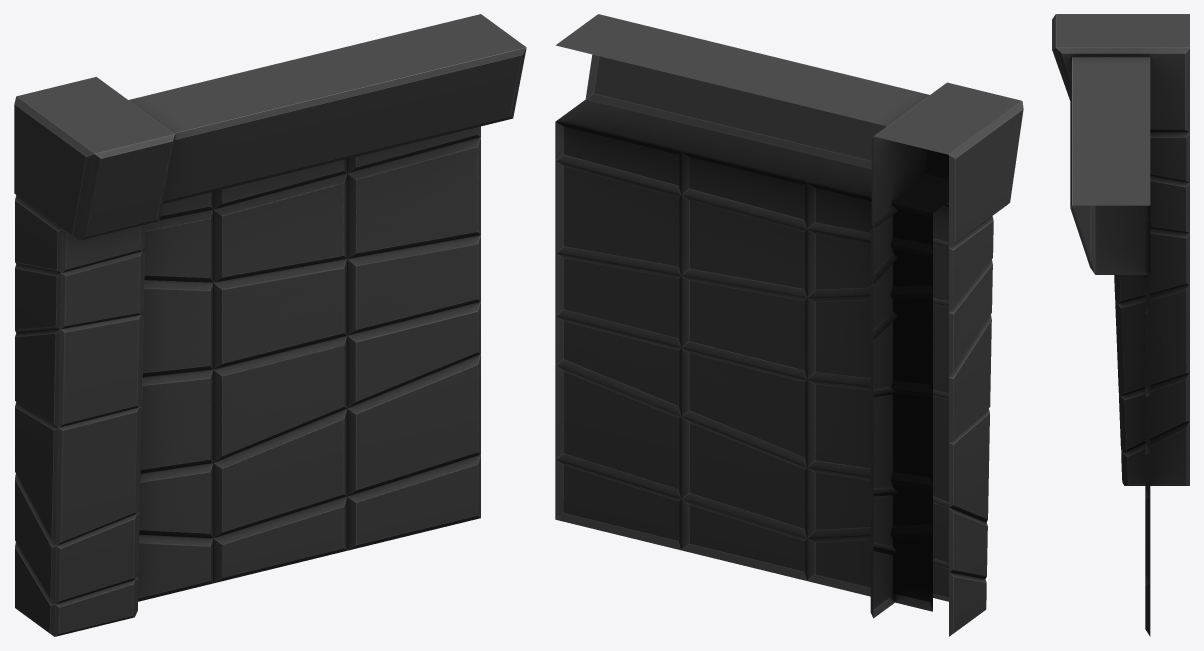
The model's file is wallop.fbx.
3 views of the same model, side by side, from view 1: azimuth 30°, elevation 25°; view 2: azimuth 150°, elevation 25°; view 3: azimuth 270°, elevation 25° (orthographic). The views are drawn at different scales.
Visible parts, largest first — view 1: Plane.002; view 2: Plane.002; view 3: Plane.002.
Part boxes in pixels (x1,y1,x2,y2): Plane.002: (14,14,526,636); Plane.002: (555,14,1023,636); Plane.002: (1052,14,1189,636).
Bounding box in the file's own units: 556 × 610 × 174.
Materials: 1 (1 with a texture image).
